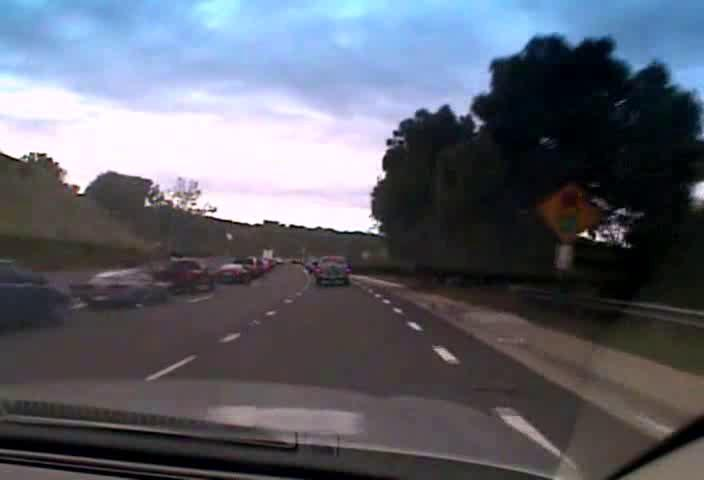signalAhead: (537, 177, 602, 240)
